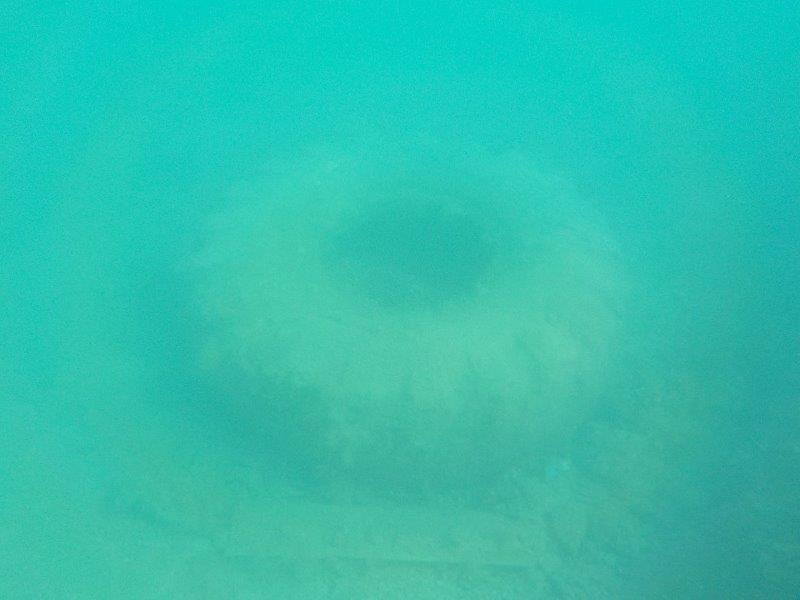tire: (182, 119, 643, 490)
